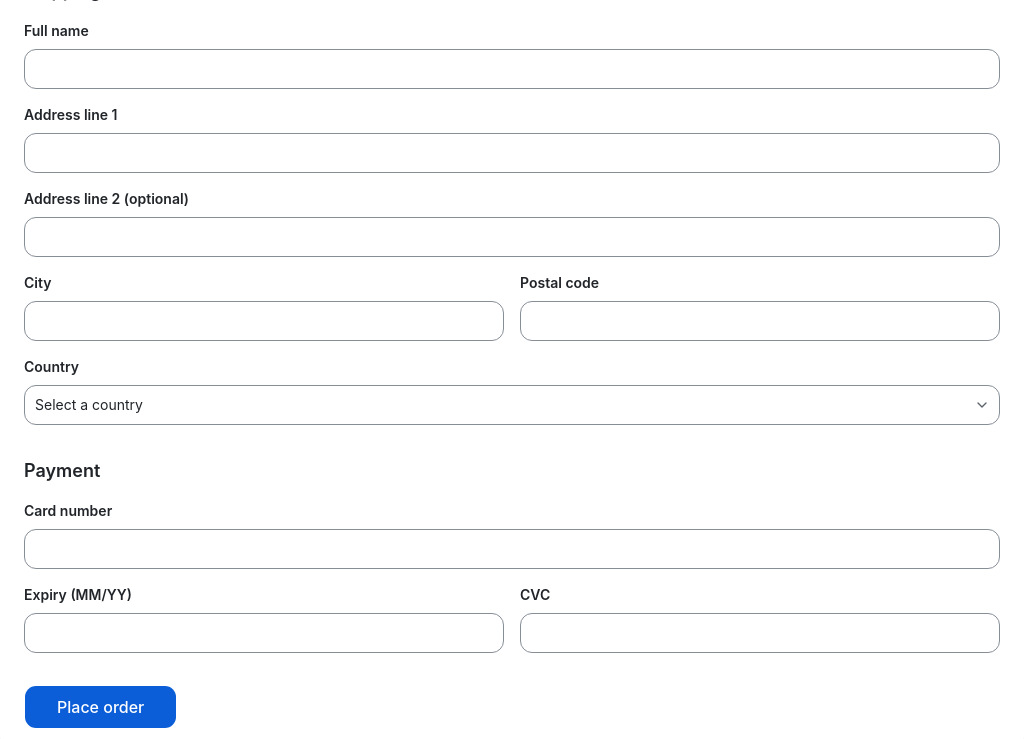
Scenario: CheckoutForm › [BR-K2] clears a field error on change after the first submit
(page scrolled)
Click the button "Place order": (101, 707) [24,685,177,729]
(page scrolled)
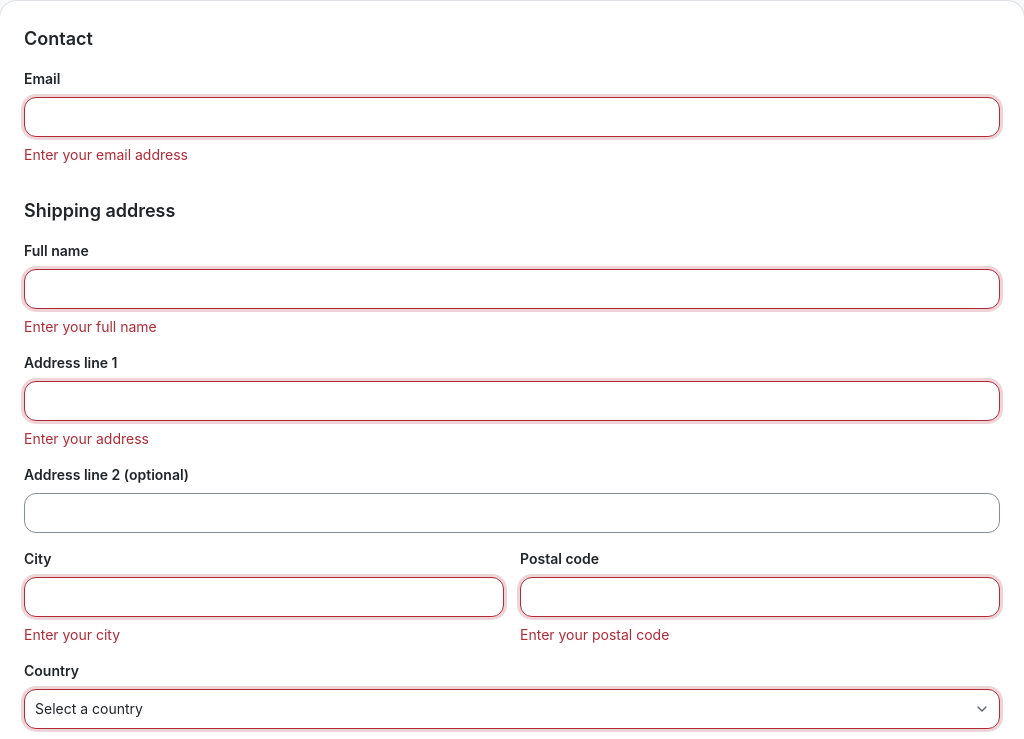
Expected: the text "Enter your email address" is shown, [24,146,188,163]
In the field labelled "Email": (512, 117) [24,97,1000,137], type "ada@example"
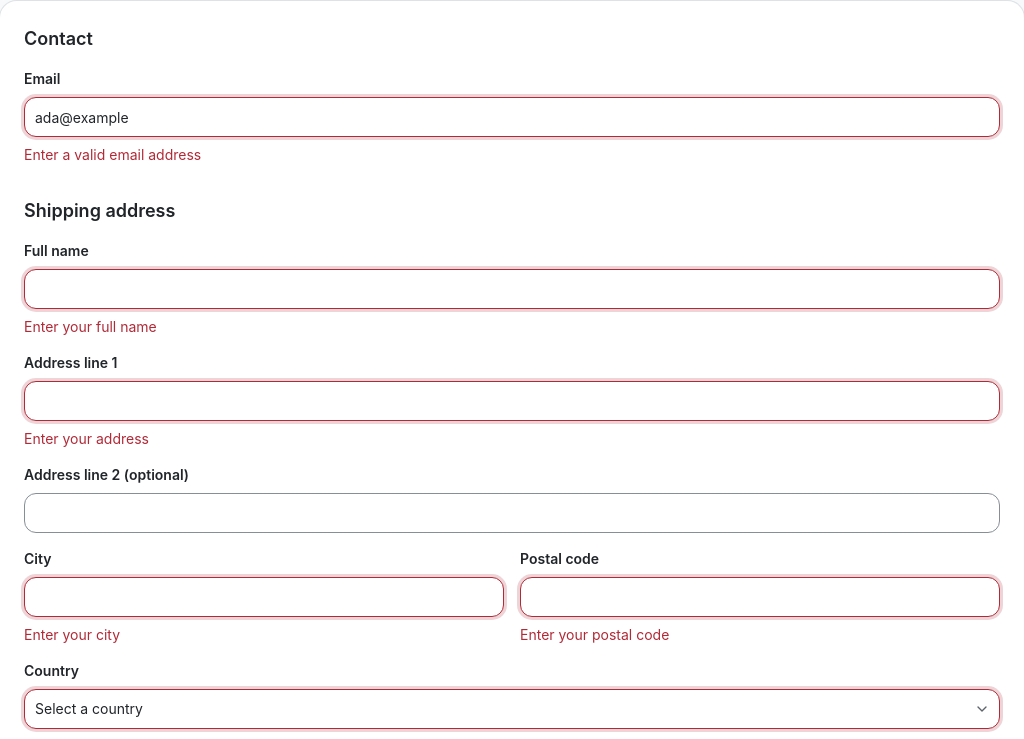
Expected: the text "Enter a valid email address" is shown, [24,146,201,163]
Expected: the text "Enter your email address" is gone
Replace the text in the field labelled "Email" with "ada@example.com": (512, 117) [24,97,1000,137]
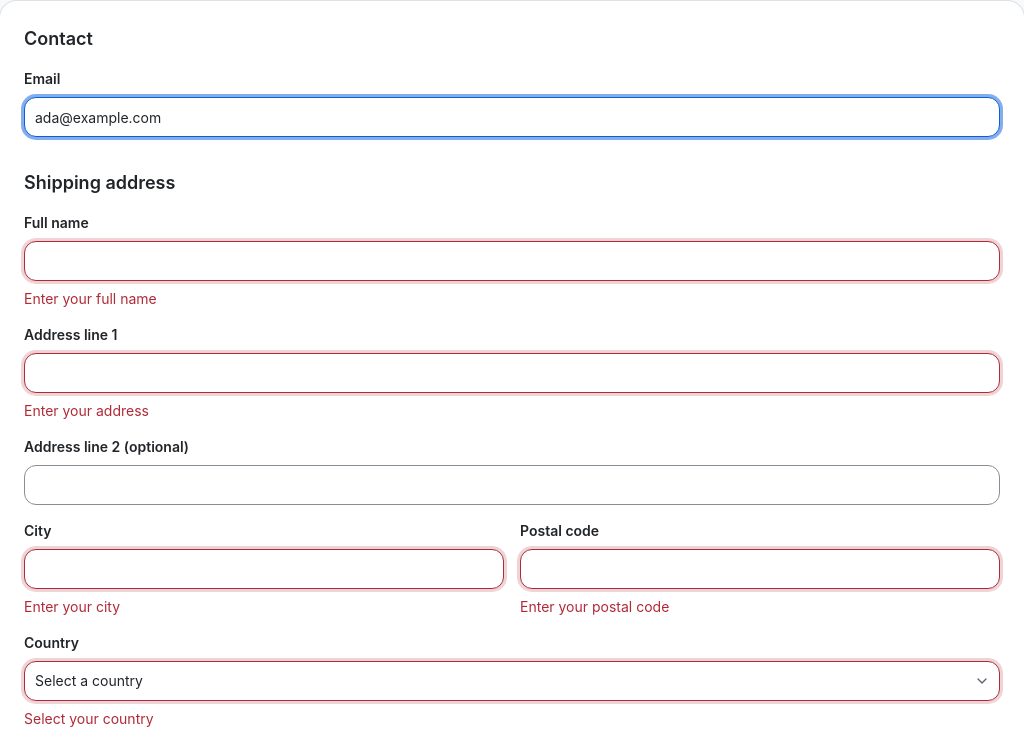
Expected: the text "Enter your full name" is shown, [24,290,157,307]
Expected: the text "Enter a valid email address" is gone
